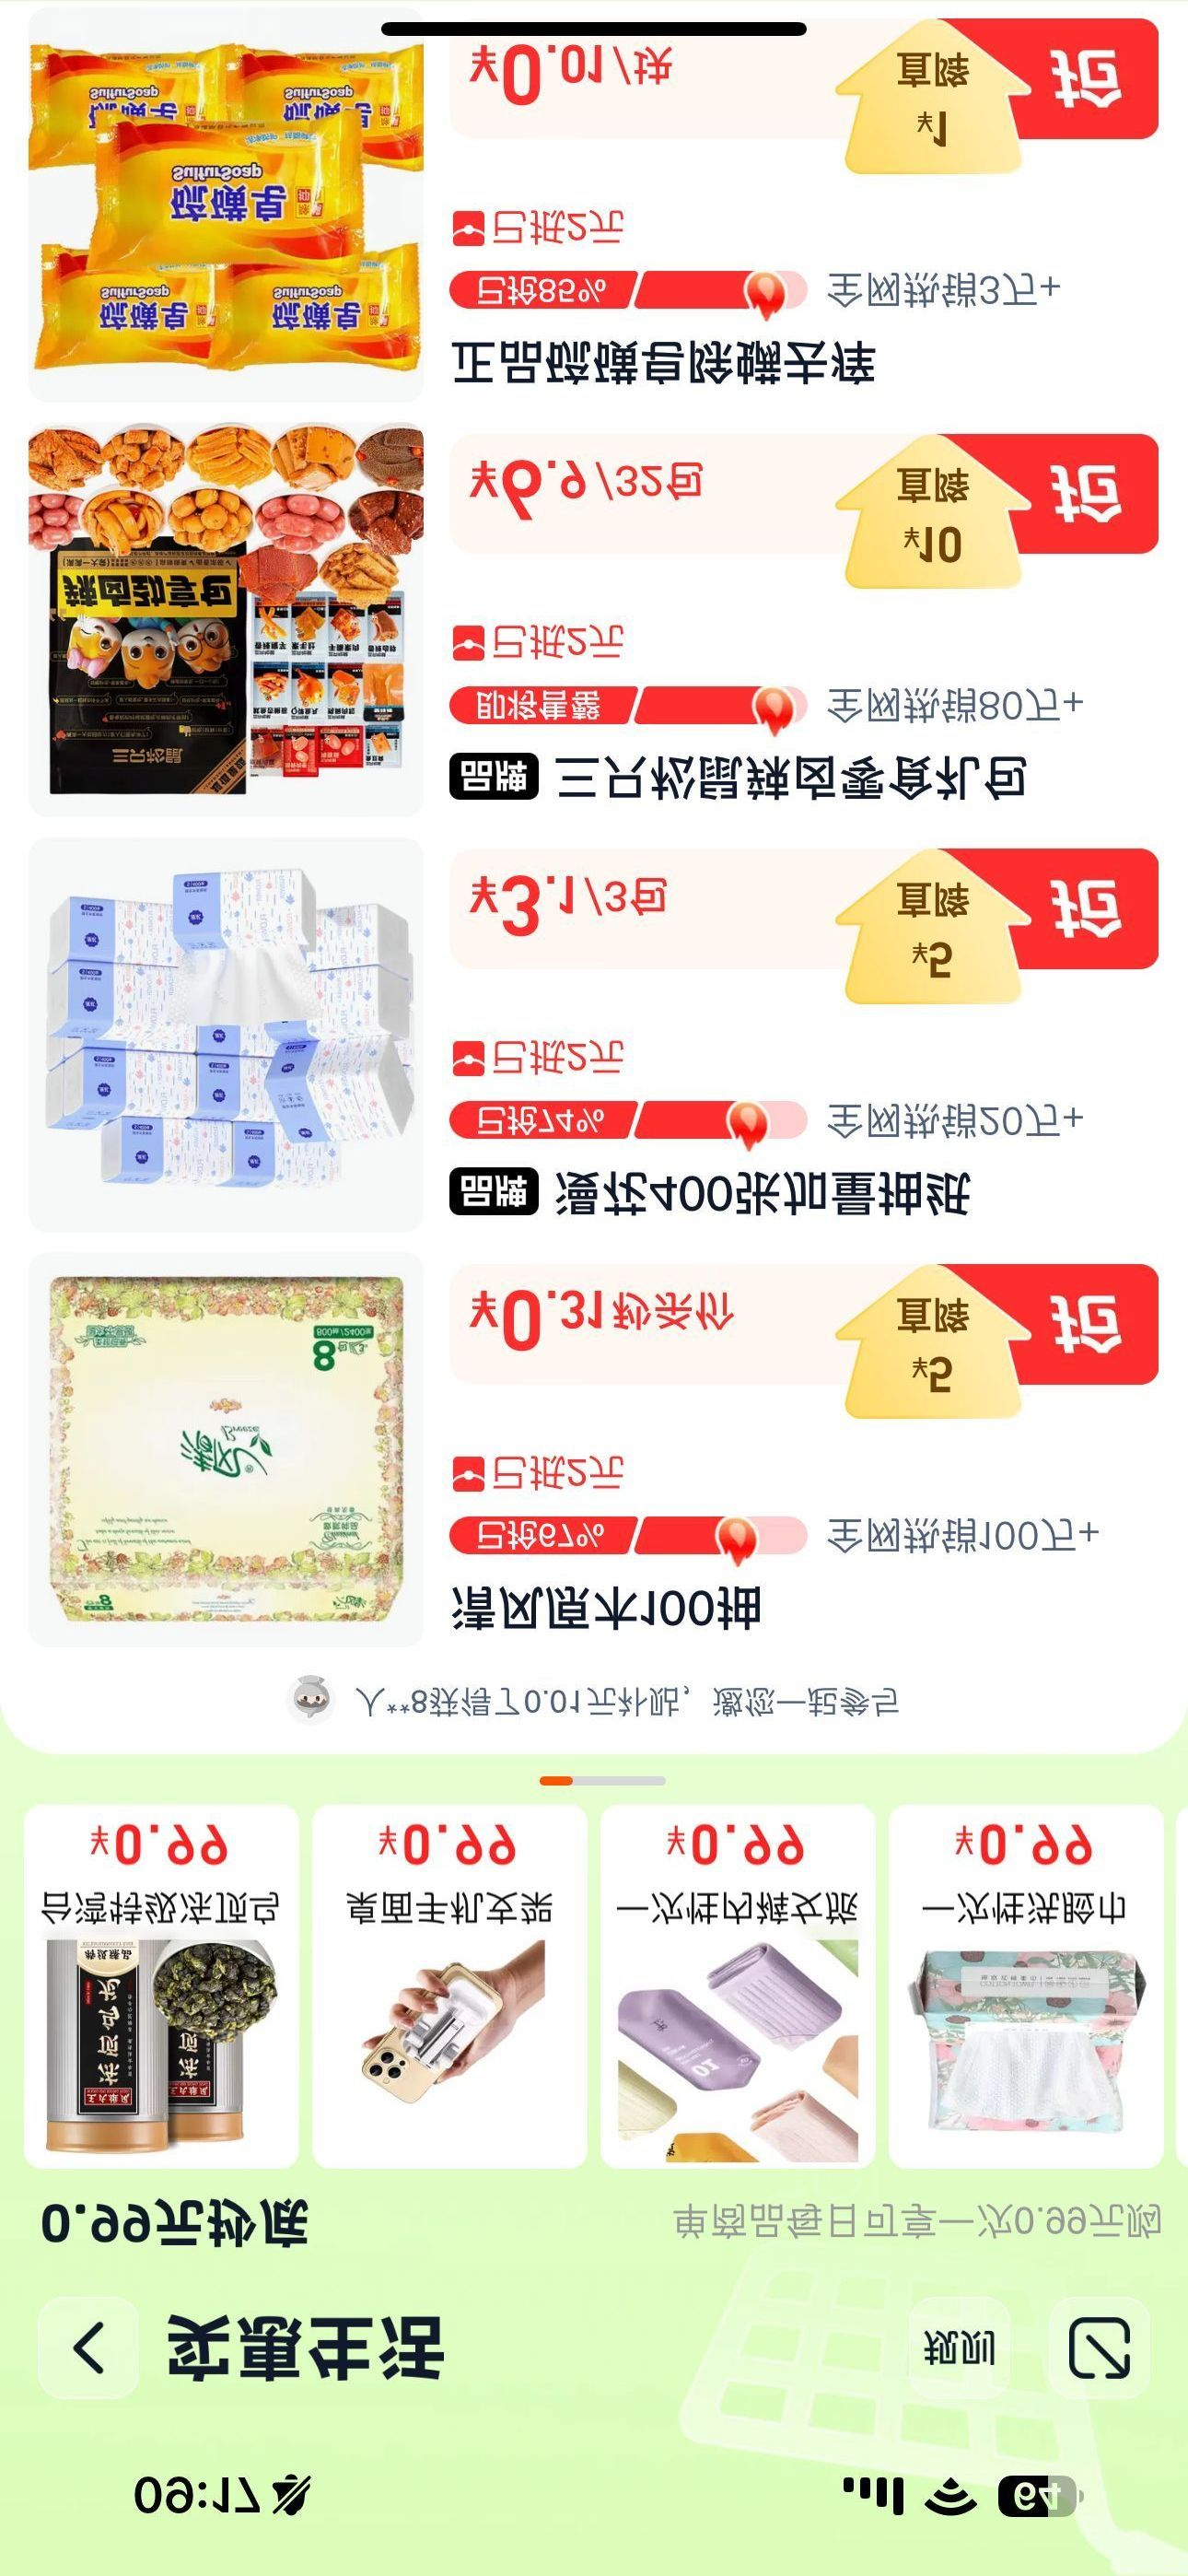item: (16, 1252, 1186, 1676), (13, 818, 1183, 1221), (8, 407, 1181, 805), (12, 13, 1178, 398)
op_bar: (5, 2290, 1188, 2418)
seckill: (5, 1782, 1186, 2180)
